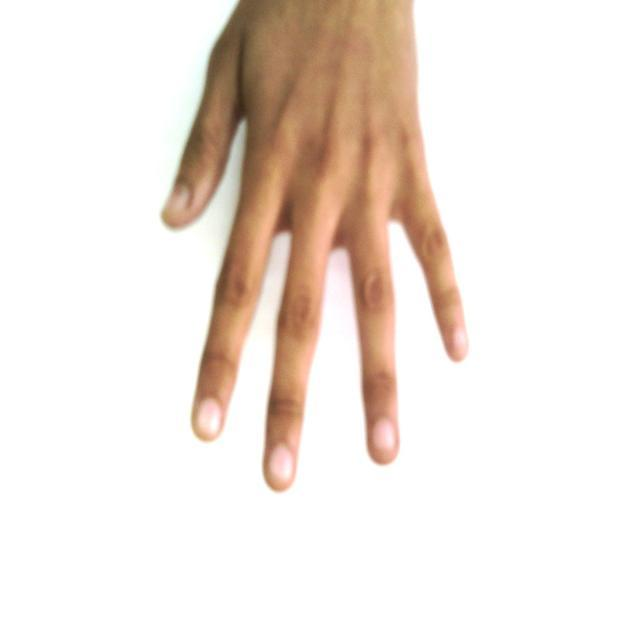Fingernail: (164, 185, 189, 219), (198, 400, 220, 437), (270, 446, 292, 482), (373, 420, 395, 453), (454, 329, 467, 350)
